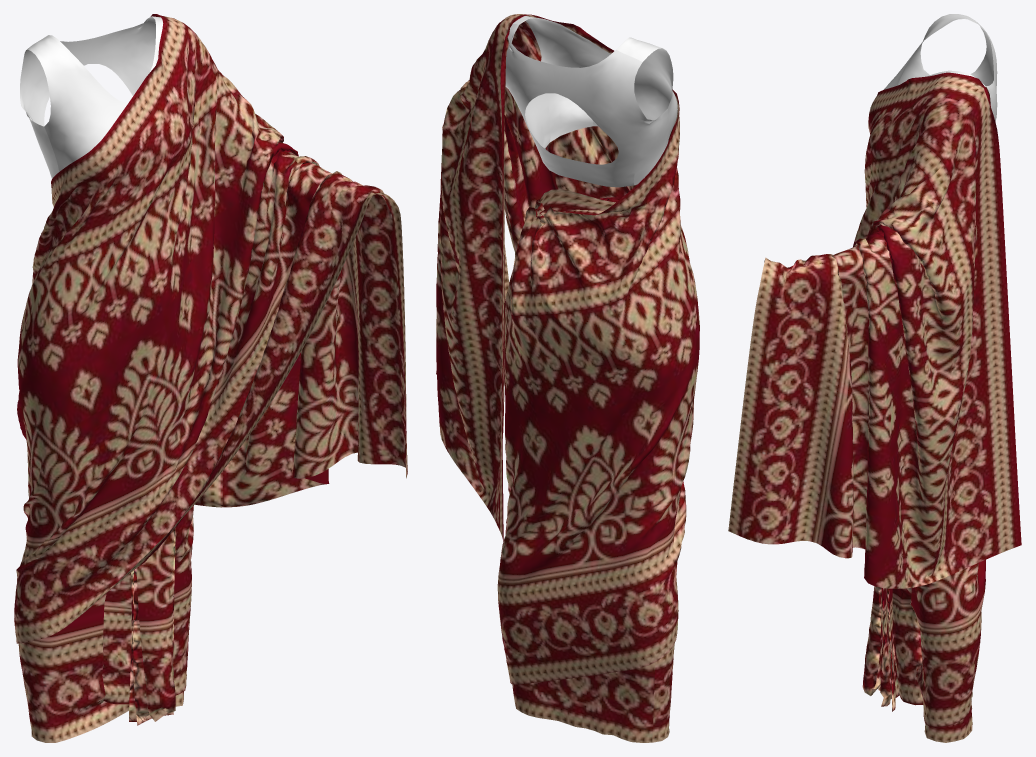
Rendered from saree.glb.
The picture shows the model from 3 angles, left to right: view 1: azimuth 30°, elevation 25°; view 2: azimuth 150°, elevation 25°; view 3: azimuth 270°, elevation 25°; orthographic projection. The views are drawn at different scales.
Visible parts, largest first — view 1: saree, blouse; view 2: saree, blouse; view 3: saree, blouse.
Part boxes in pixels (left/top/right/bottom): saree: left=14, top=14, right=407, bottom=742; blouse: left=20, top=16, right=163, bottom=178; saree: left=436, top=14, right=699, bottom=742; blouse: left=505, top=16, right=677, bottom=187; saree: left=728, top=72, right=1021, bottom=742; blouse: left=883, top=14, right=997, bottom=121.
Bounding box in the file's own units: 2.57 × 5.72 × 2.26.
2 materials, 1 textured.
